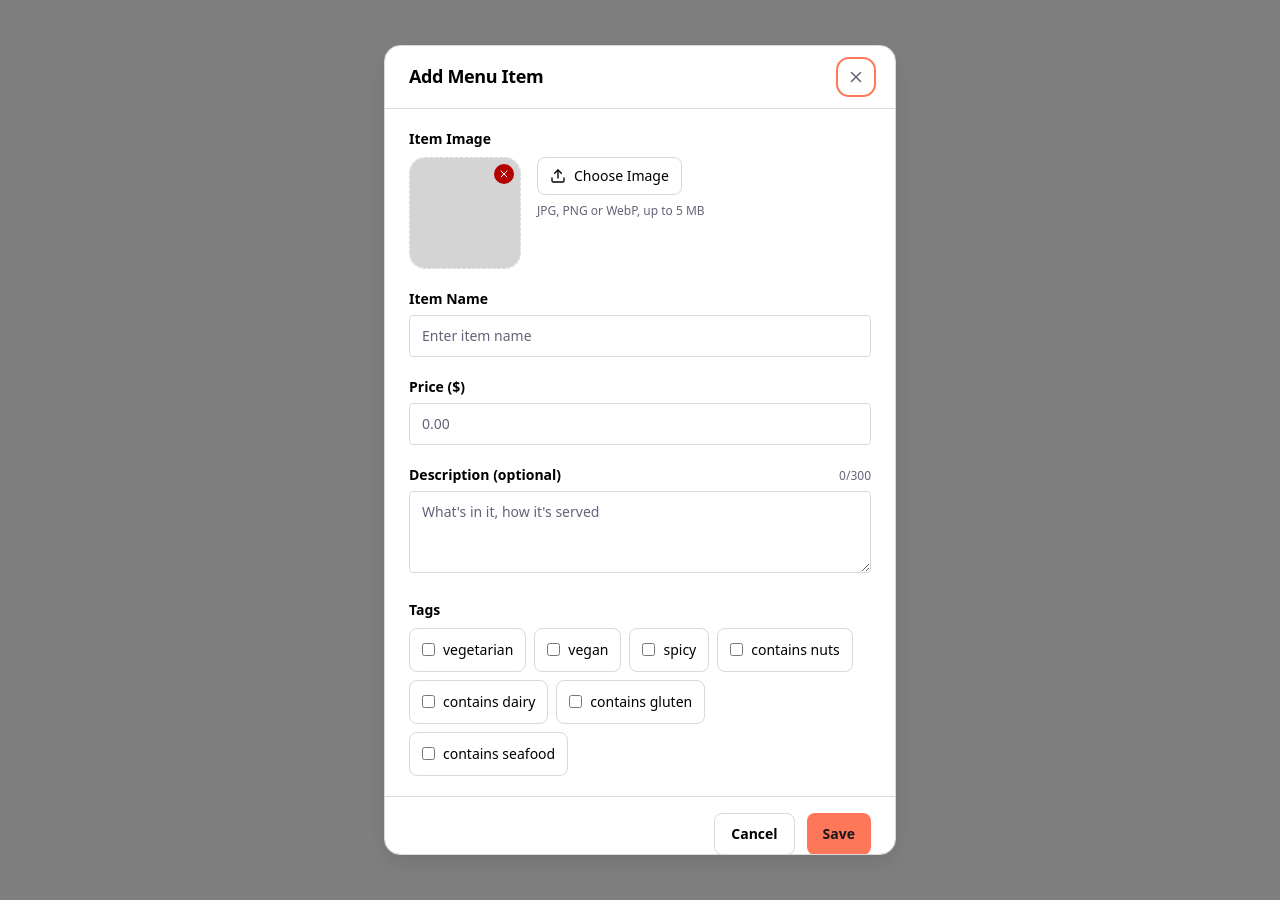
it: adding an item with a photo (PHOTOS-S3) › storage says the file is too big: a clear 5 MB message
Earlier steps of the test are not shown.
Type "Fish Amok" into the field with placeholder "Enter item name" at point(640, 336), box left=409, top=315, right=871, bottom=357
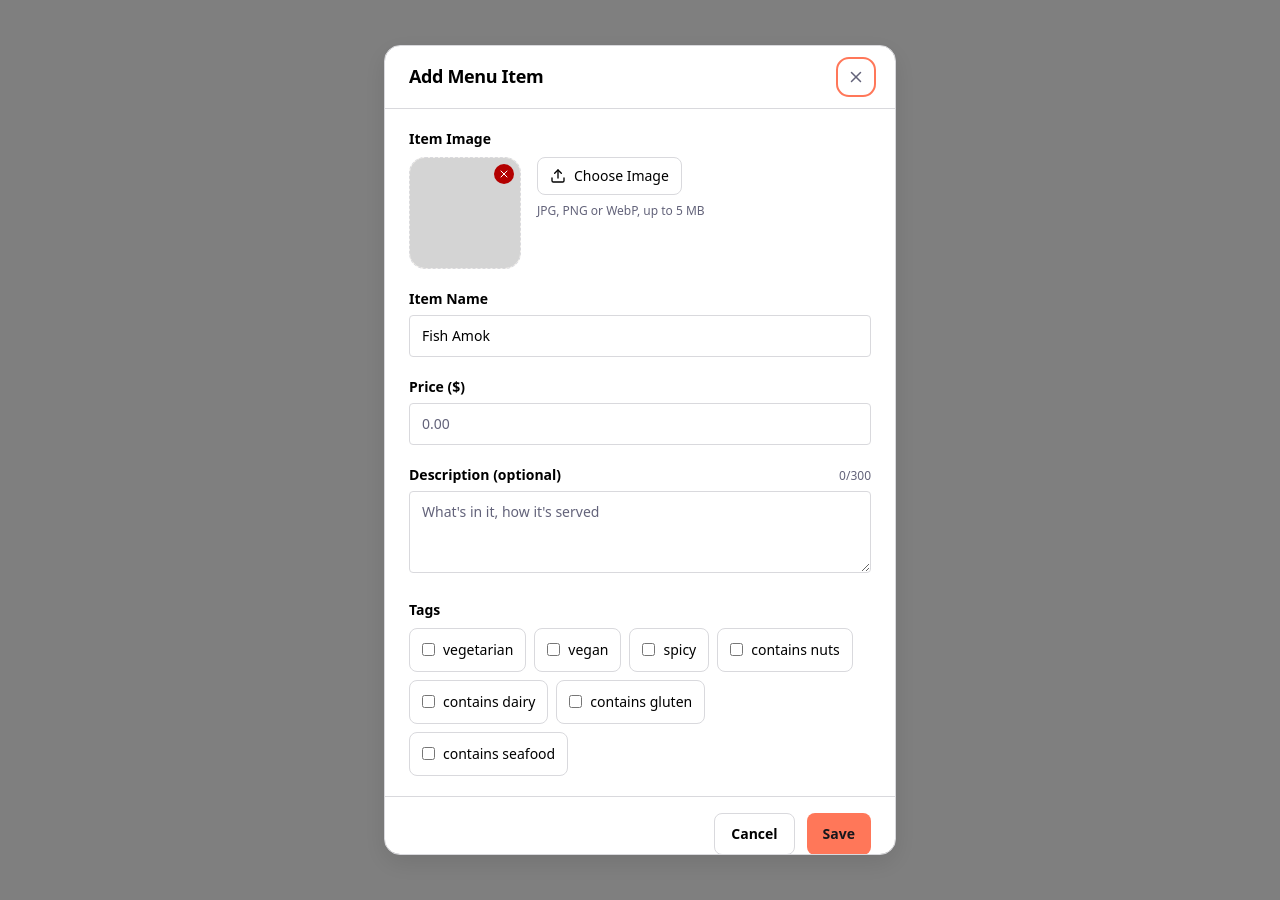
Type "5.5" into the number field with placeholder "0.00" at point(640, 424), box left=409, top=403, right=871, bottom=445
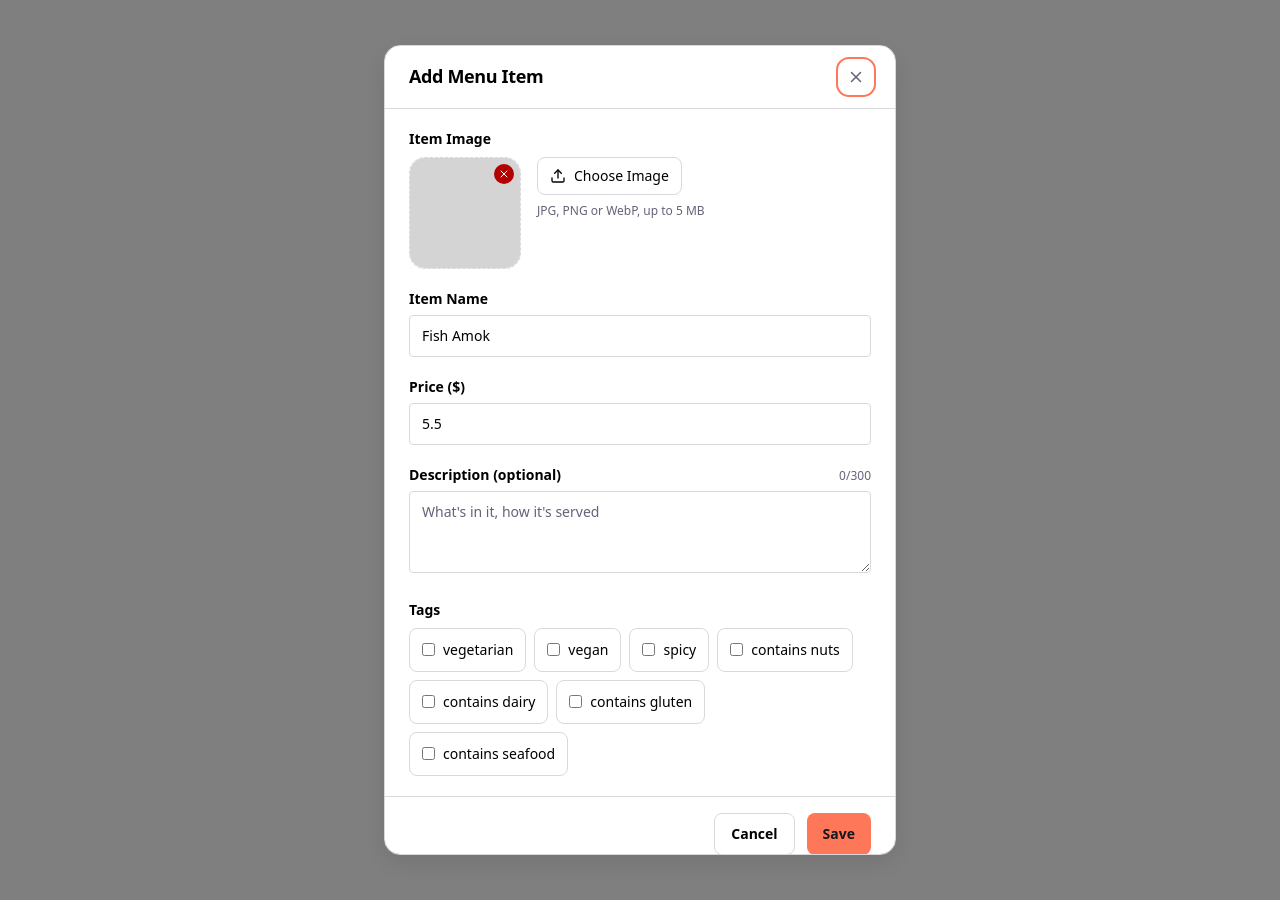
Click the button "Save" at point(839, 834), box left=807, top=813, right=871, bottom=855
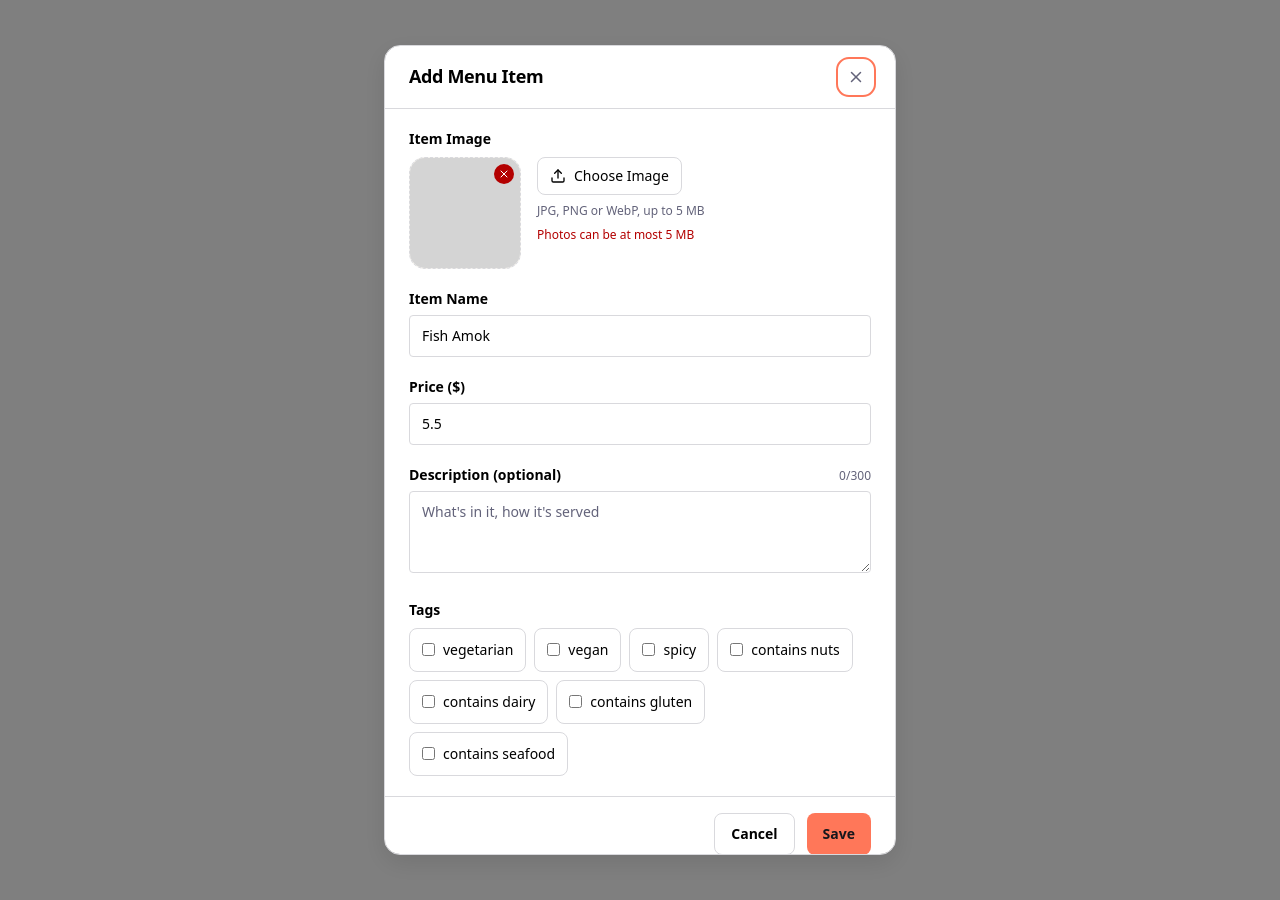
Expected: the message reads "Photos can be at most 5 MB", left=537, top=226, right=694, bottom=243
